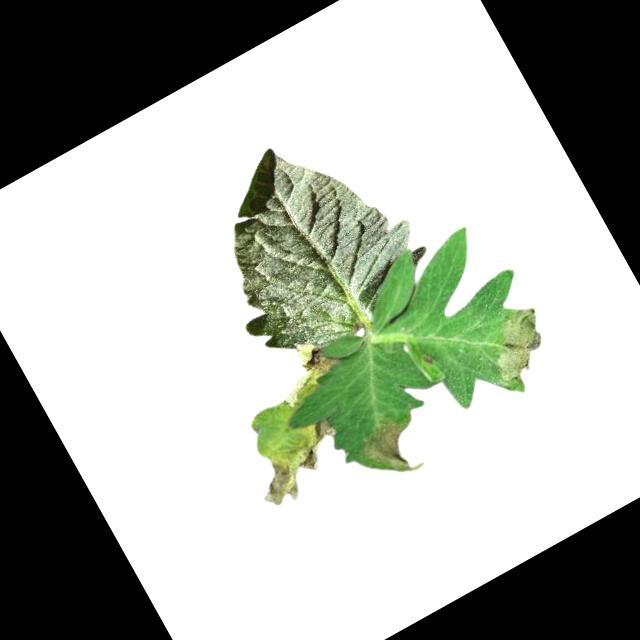Late_blight: (469, 300, 562, 390), (264, 331, 350, 410), (352, 410, 428, 490), (244, 451, 308, 517), (291, 440, 325, 476), (307, 414, 337, 444)
healthy: (175, 105, 444, 379)
